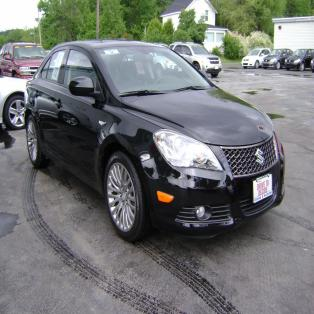Auto: (25, 39, 283, 244)
